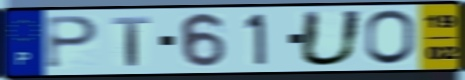1: (242, 12, 269, 67)
6: (177, 11, 228, 70)
O: (363, 8, 417, 67)
P: (44, 15, 101, 71)
T: (110, 15, 153, 68)
U: (295, 9, 367, 69)
